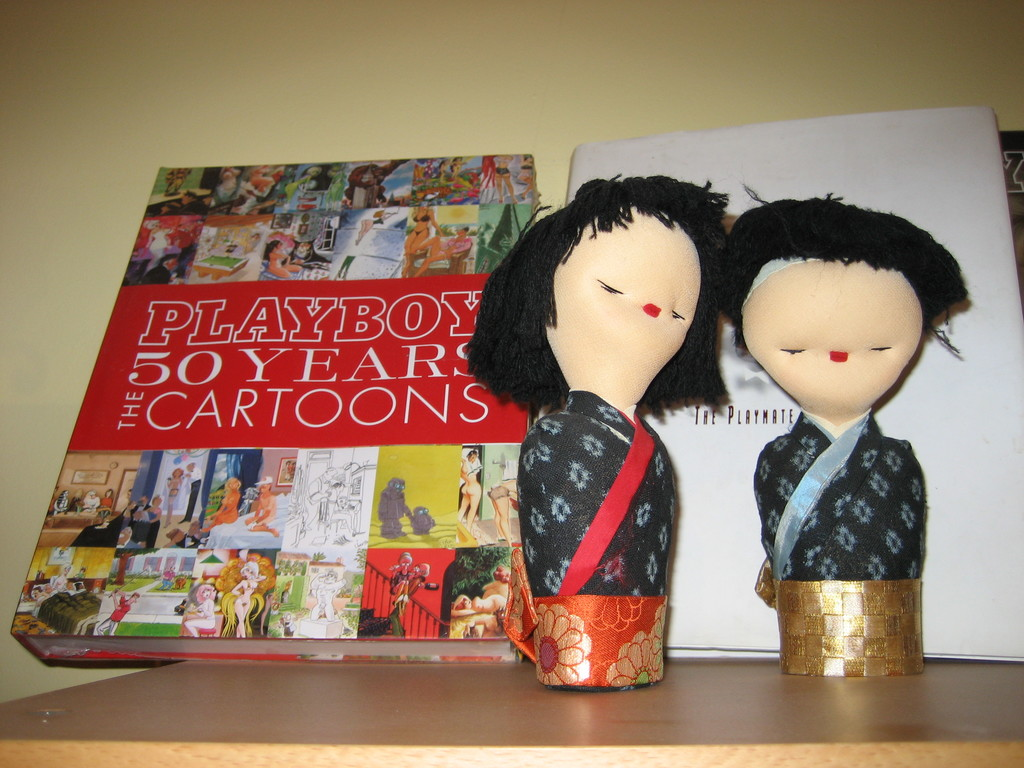face: (551, 225, 703, 382)
